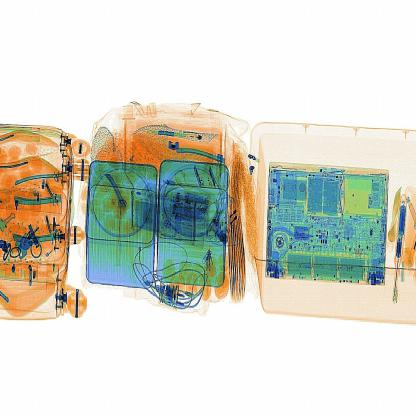wrench: (109, 192, 127, 275)
